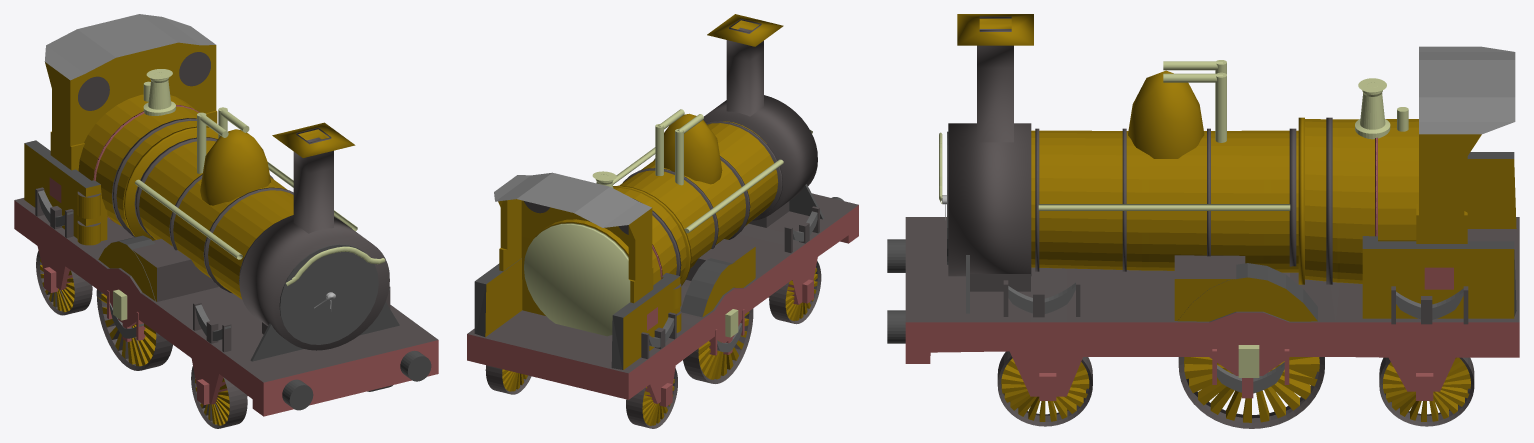
Rendered from lbscr-victoria.dae.
3 views of the same model, side by side, from view 1: azimuth 30°, elevation 25°; view 2: azimuth 150°, elevation 25°; view 3: azimuth 270°, elevation 25° (orthographic). The views are drawn at different scales.
Parts seen in each view (by area): view 1: Cube_002, Cube_006_001, Cylinder_017, Cylinder_018, Cube_007_001, Cylinder_015, Cube_007, Sphere_002, Cube_004, Cube_008, Cylinder_012, Cylinder_020 (+17 smaller); view 2: Cube_002, Cube_006_001, Cylinder_021, Cylinder_017, Cube_004, Cylinder_018, Cube_007, Sphere_002, Circle_001_004, Cylinder_015, Cylinder_014, Cylinder_012 (+8 smaller); view 3: Cube_002, Cylinder_017, Cylinder_015, Cube_004, Cube_006_001, Cylinder_018, Cube_007, Cylinder_012, Sphere_002, Circle_001_005, Cylinder_014, Cylinder_013 (+15 smaller).
Part boxes in pixels (box(x1,y1,x2,y2)): Cube_002: box(14, 198, 438, 416); Cube_006_001: box(44, 14, 217, 170); Cylinder_017: box(139, 140, 293, 299); Cylinder_018: box(239, 215, 389, 350); Cube_007_001: box(279, 244, 378, 344); Cylinder_015: box(78, 94, 207, 228); Cube_007: box(272, 122, 355, 233); Sphere_002: box(200, 129, 270, 205); Cube_004: box(24, 140, 107, 240); Cube_008: box(132, 239, 218, 301); Cylinder_012: box(96, 289, 172, 370); Cylinder_020: box(123, 126, 218, 240); Cube_002: box(467, 193, 858, 403); Cube_006_001: box(494, 172, 653, 315); Cylinder_021: box(524, 223, 630, 336); Cylinder_017: box(619, 121, 778, 267); Cube_004: box(474, 258, 680, 369); Cylinder_018: box(703, 95, 817, 220); Cube_007: box(707, 14, 783, 116); Sphere_002: box(664, 113, 722, 184); Circle_001_004: box(680, 258, 754, 317); Cylinder_015: box(535, 188, 686, 284); Cylinder_014: box(485, 365, 677, 428); Cylinder_012: box(683, 308, 753, 383); Cube_002: box(905, 217, 1519, 396); Cylinder_017: box(1031, 130, 1298, 272); Cylinder_015: box(1305, 119, 1418, 283); Cube_004: box(1362, 152, 1516, 318); Cube_006_001: box(1416, 46, 1515, 243); Cylinder_018: box(948, 123, 1031, 276); Cube_007: box(957, 14, 1033, 142); Cylinder_012: box(1178, 357, 1324, 428); Sphere_002: box(1128, 70, 1204, 158); Circle_001_005: box(1178, 263, 1317, 321); Cylinder_014: box(1379, 357, 1474, 426); Cylinder_013: box(997, 351, 1092, 426).
Size of the model in its own units: 1.83 by 4.34 by 2.68.
